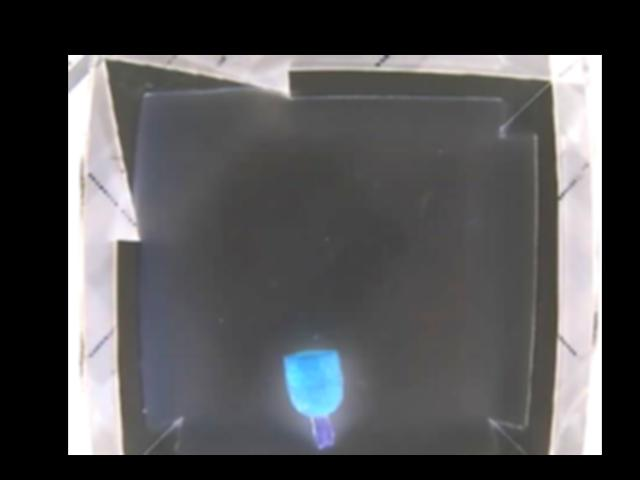Carrot: (285, 348, 344, 452)
